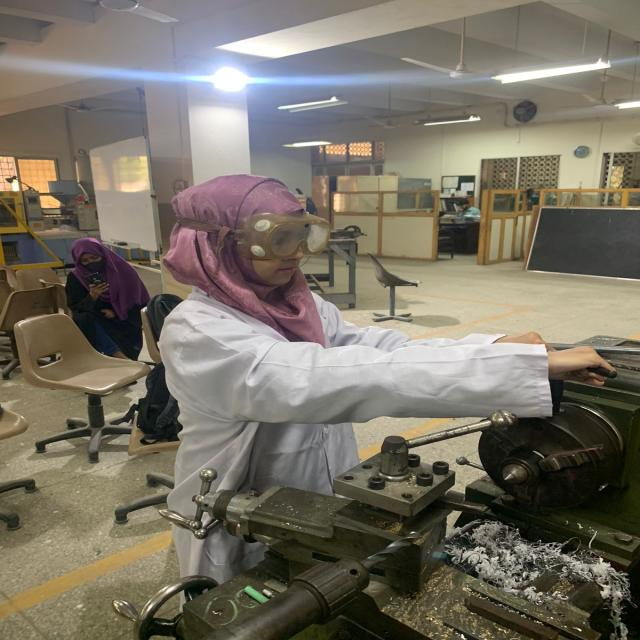googles: (249, 214, 330, 258)
labcoat: (155, 281, 557, 618)
